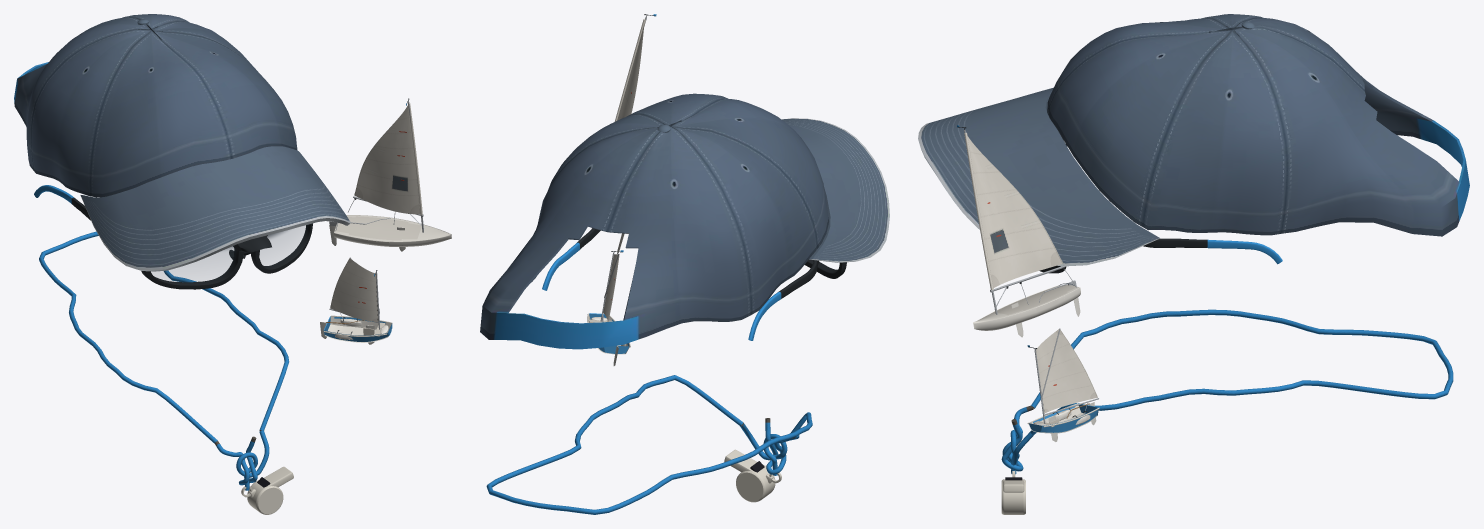
The model's file is vela.glb.
3 renders of one model, left to right at view 1: azimuth 30°, elevation 25°; view 2: azimuth 150°, elevation 25°; view 3: azimuth 270°, elevation 25°, orthographic. The views are drawn at different scales.
Parts seen in each view (by area): view 1: vela_bone_tecido, vela_laser_retranca_malha, vela_laser_casco_malha, vela_apito_cordao_pescoco, vela_oculos_armacao, vela_oculos_lente, vela_optimist_vela_malha, vela_optimist_casco_malha, vela_apito_corpo, vela_apito_cordao_pendente; view 2: vela_bone_tecido, vela_apito_cordao_pescoco, vela_oculos_armacao, vela_apito_corpo, vela_apito_cordao_pendente, vela_laser_retranca_malha, vela_optimist_casco_malha, vela_optimist_vela_malha; view 3: vela_bone_tecido, vela_laser_retranca_malha, vela_apito_cordao_pescoco, vela_optimist_vela_malha, vela_laser_casco_malha, vela_optimist_casco_malha, vela_oculos_armacao, vela_apito_corpo, vela_apito_cordao_pendente.
Boxes of the visible parts, bbox=[...] form: vela_bone_tecido: bbox=[14, 14, 350, 271]; vela_laser_retranca_malha: bbox=[348, 103, 424, 228]; vela_laser_casco_malha: bbox=[329, 101, 451, 251]; vela_apito_cordao_pescoco: bbox=[39, 231, 289, 443]; vela_oculos_armacao: bbox=[34, 185, 312, 289]; vela_oculos_lente: bbox=[151, 225, 307, 280]; vela_optimist_vela_malha: bbox=[329, 257, 379, 326]; vela_optimist_casco_malha: bbox=[320, 273, 392, 344]; vela_apito_corpo: bbox=[241, 466, 293, 514]; vela_apito_cordao_pendente: bbox=[214, 430, 269, 490]; vela_bone_tecido: bbox=[480, 93, 889, 349]; vela_apito_cordao_pescoco: bbox=[486, 375, 812, 514]; vela_oculos_armacao: bbox=[542, 228, 846, 340]; vela_apito_corpo: bbox=[724, 449, 781, 502]; vela_apito_cordao_pendente: bbox=[740, 418, 799, 475]; vela_laser_retranca_malha: bbox=[614, 18, 645, 121]; vela_optimist_casco_malha: bbox=[587, 253, 630, 365]; vela_optimist_vela_malha: bbox=[602, 253, 619, 322]; vela_bone_tecido: bbox=[918, 14, 1469, 266]; vela_laser_retranca_malha: bbox=[964, 132, 1076, 309]; vela_apito_cordao_pescoco: bbox=[1030, 309, 1453, 434]; vela_optimist_vela_malha: bbox=[1036, 328, 1098, 415]; vela_laser_casco_malha: bbox=[964, 130, 1080, 337]; vela_optimist_casco_malha: bbox=[1027, 350, 1099, 441]; vela_oculos_armacao: bbox=[1039, 134, 1282, 273]; vela_apito_corpo: bbox=[1001, 471, 1025, 514]; vela_apito_cordao_pendente: bbox=[1001, 405, 1033, 474].
Size of the model in its own units: 0.2882 by 0.39 by 0.4064.
Materials: 5 (4 with a texture image).
